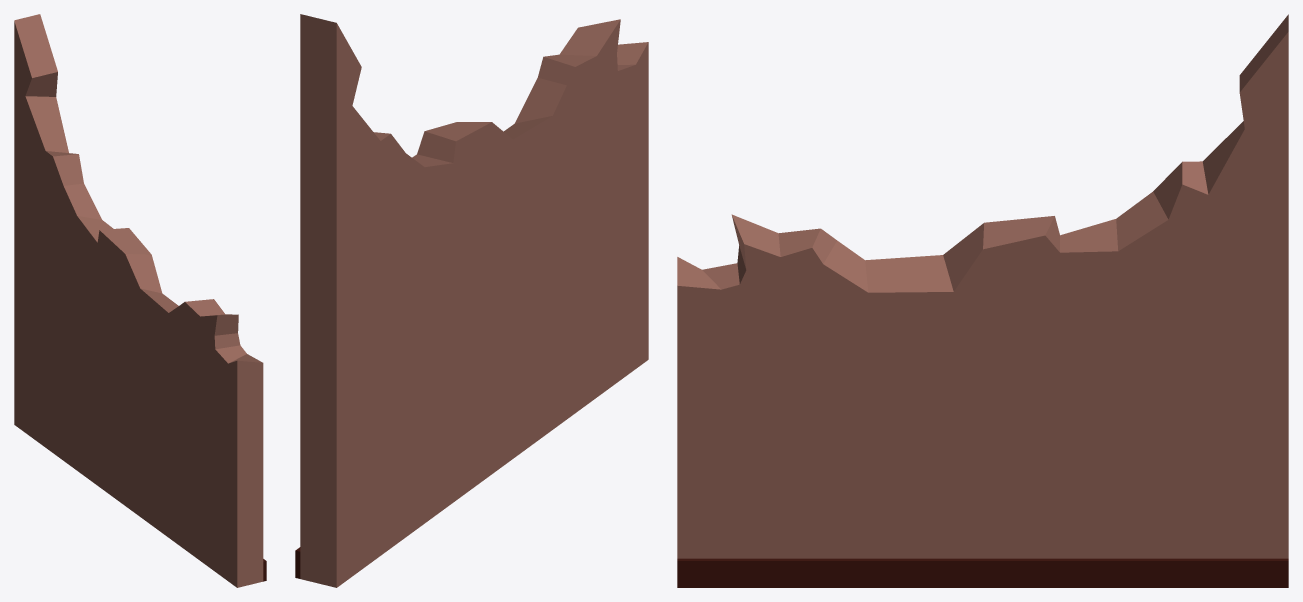
The model's file is T_MurDetruit_01.fbx.
The picture shows the model from 3 angles, left to right: view 1: azimuth 30°, elevation 25°; view 2: azimuth 150°, elevation 25°; view 3: azimuth 270°, elevation 25°; orthographic projection. The views are drawn at different scales.
Visible parts, largest first — view 1: T_MurDetruit_01; view 2: T_MurDetruit_01; view 3: T_MurDetruit_01.
Boxes of the visible parts, box(x1,y1,x2,y2) form: T_MurDetruit_01: box(14, 14, 266, 587); T_MurDetruit_01: box(295, 14, 648, 587); T_MurDetruit_01: box(677, 14, 1288, 587).
Size of the model in its own units: 15.31 by 200 by 200.
